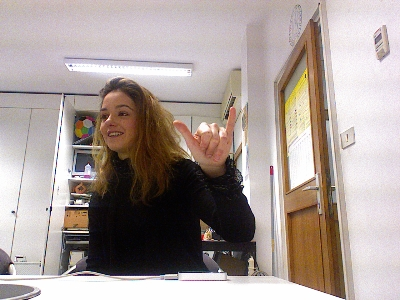六六六: (171, 105, 236, 167)
